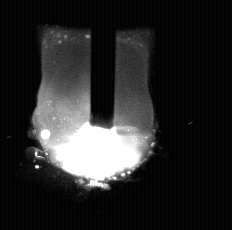arame: (90, 0, 115, 130)
poca: (44, 0, 154, 230)
